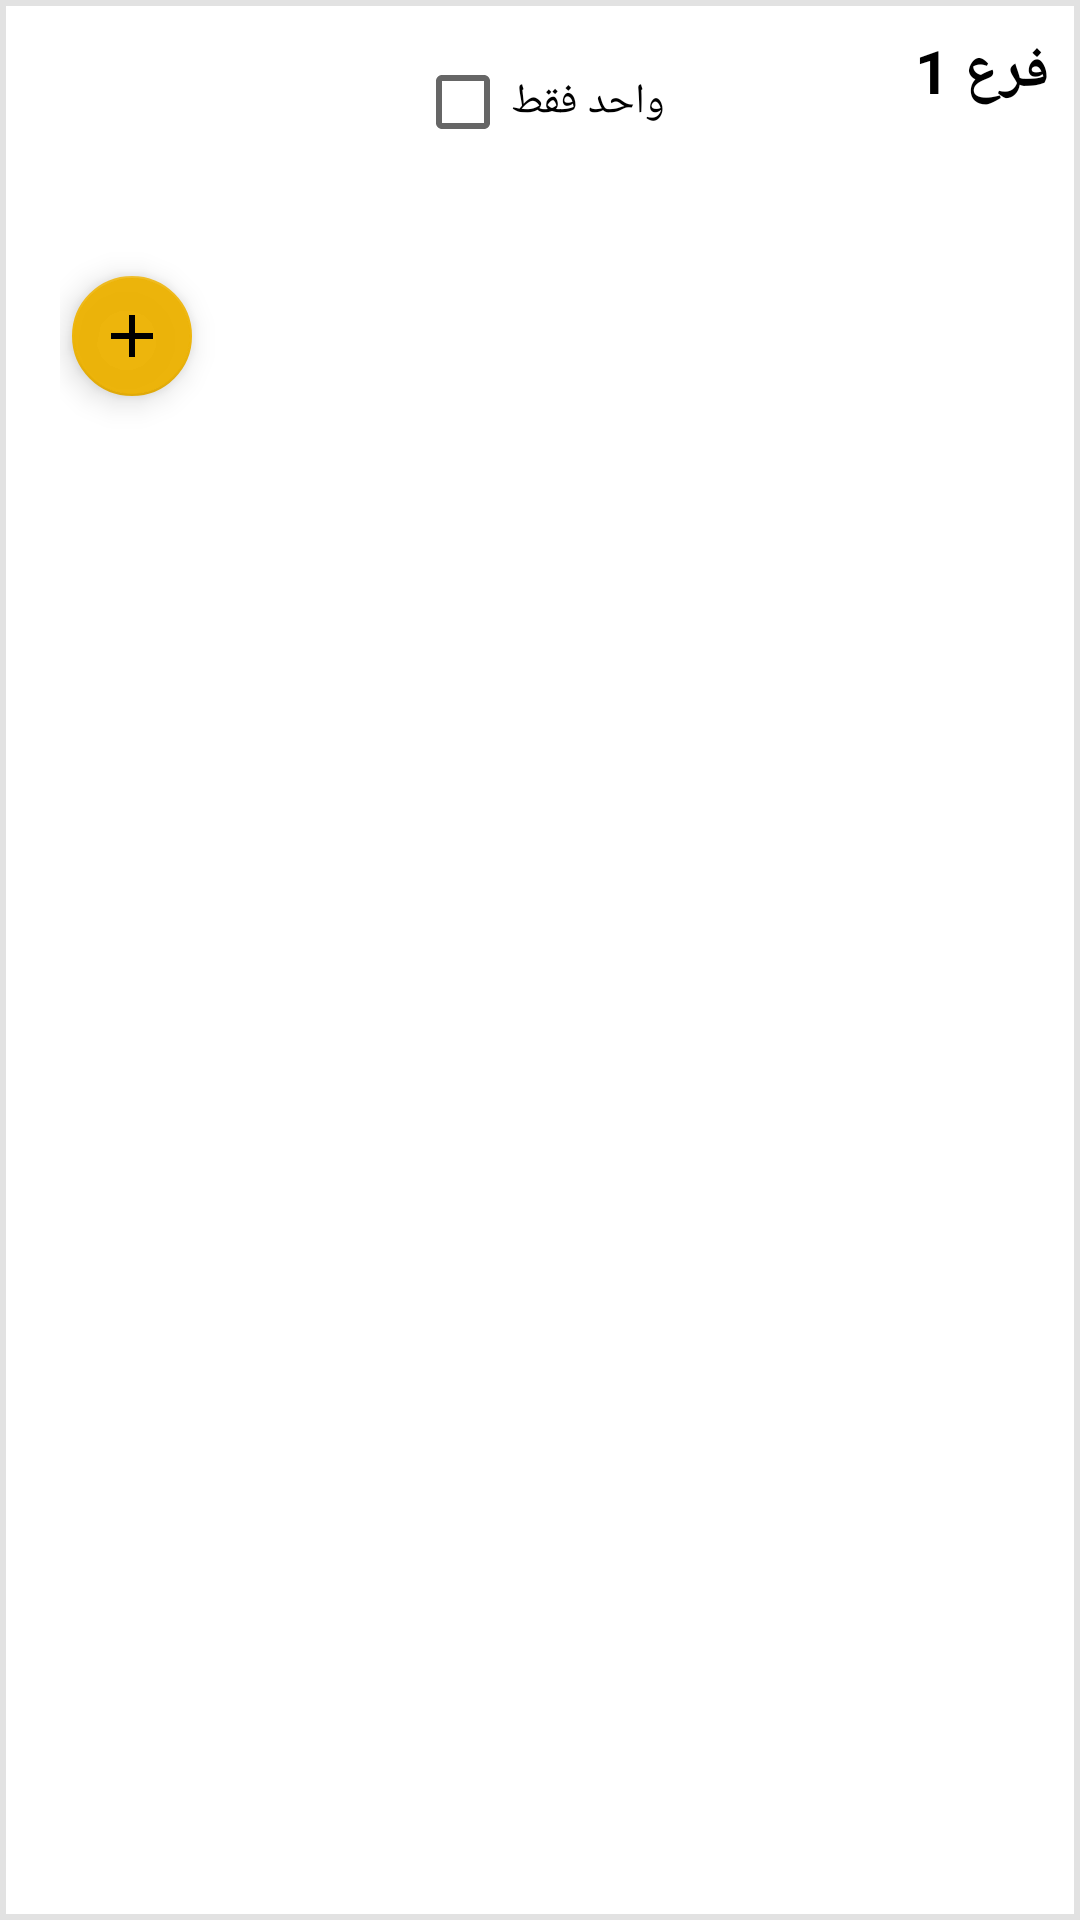

Named icons in this screenshot (1080 x 1920) and their bounding boxes, [x1=x1, y1=y1, x2=x2, y2=y2]:
add: [x1=70, y1=276, x2=192, y2=398]
